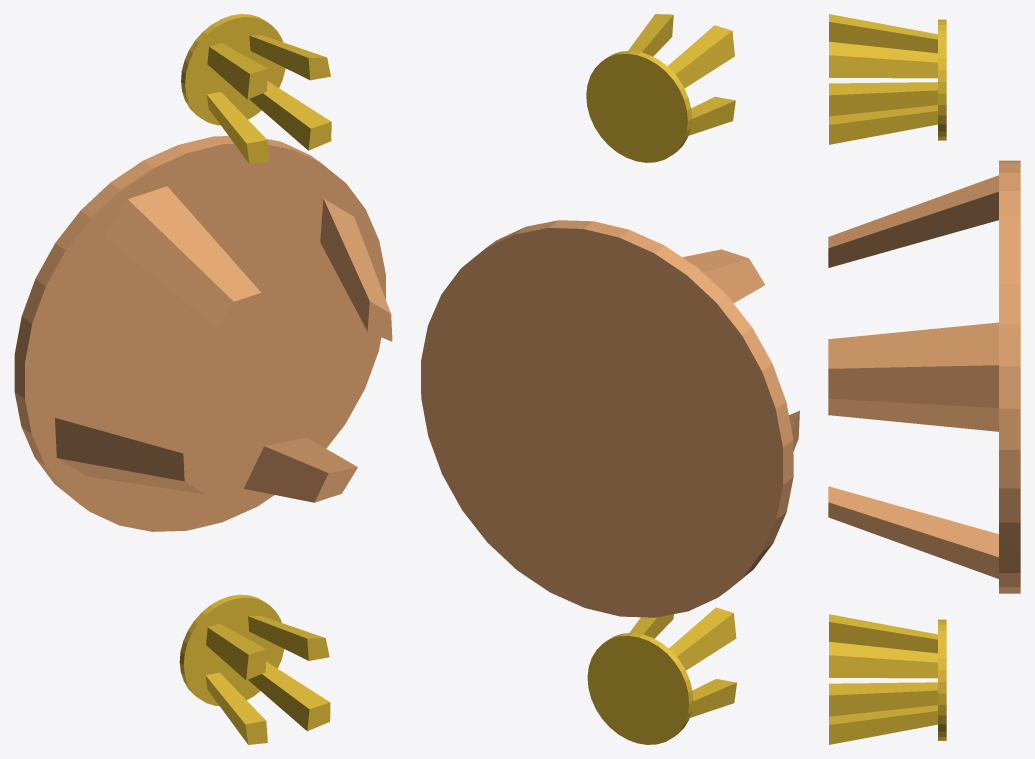
The model's file is resturant_TableChairs (1).fbx.
The picture shows the model from 3 angles, left to right: view 1: azimuth 30°, elevation 25°; view 2: azimuth 150°, elevation 25°; view 3: azimuth 270°, elevation 25°; orthographic projection. The views are drawn at different scales.
Visible parts, largest first — view 1: Circle.033; view 2: Circle.033; view 3: Circle.033.
Part boxes in pixels (x1,y1,x2,y2): Circle.033: [14, 14, 392, 744]; Circle.033: [421, 14, 799, 744]; Circle.033: [828, 14, 1020, 744].
Size of the model in its own units: 77.51 by 141 by 34.51.
